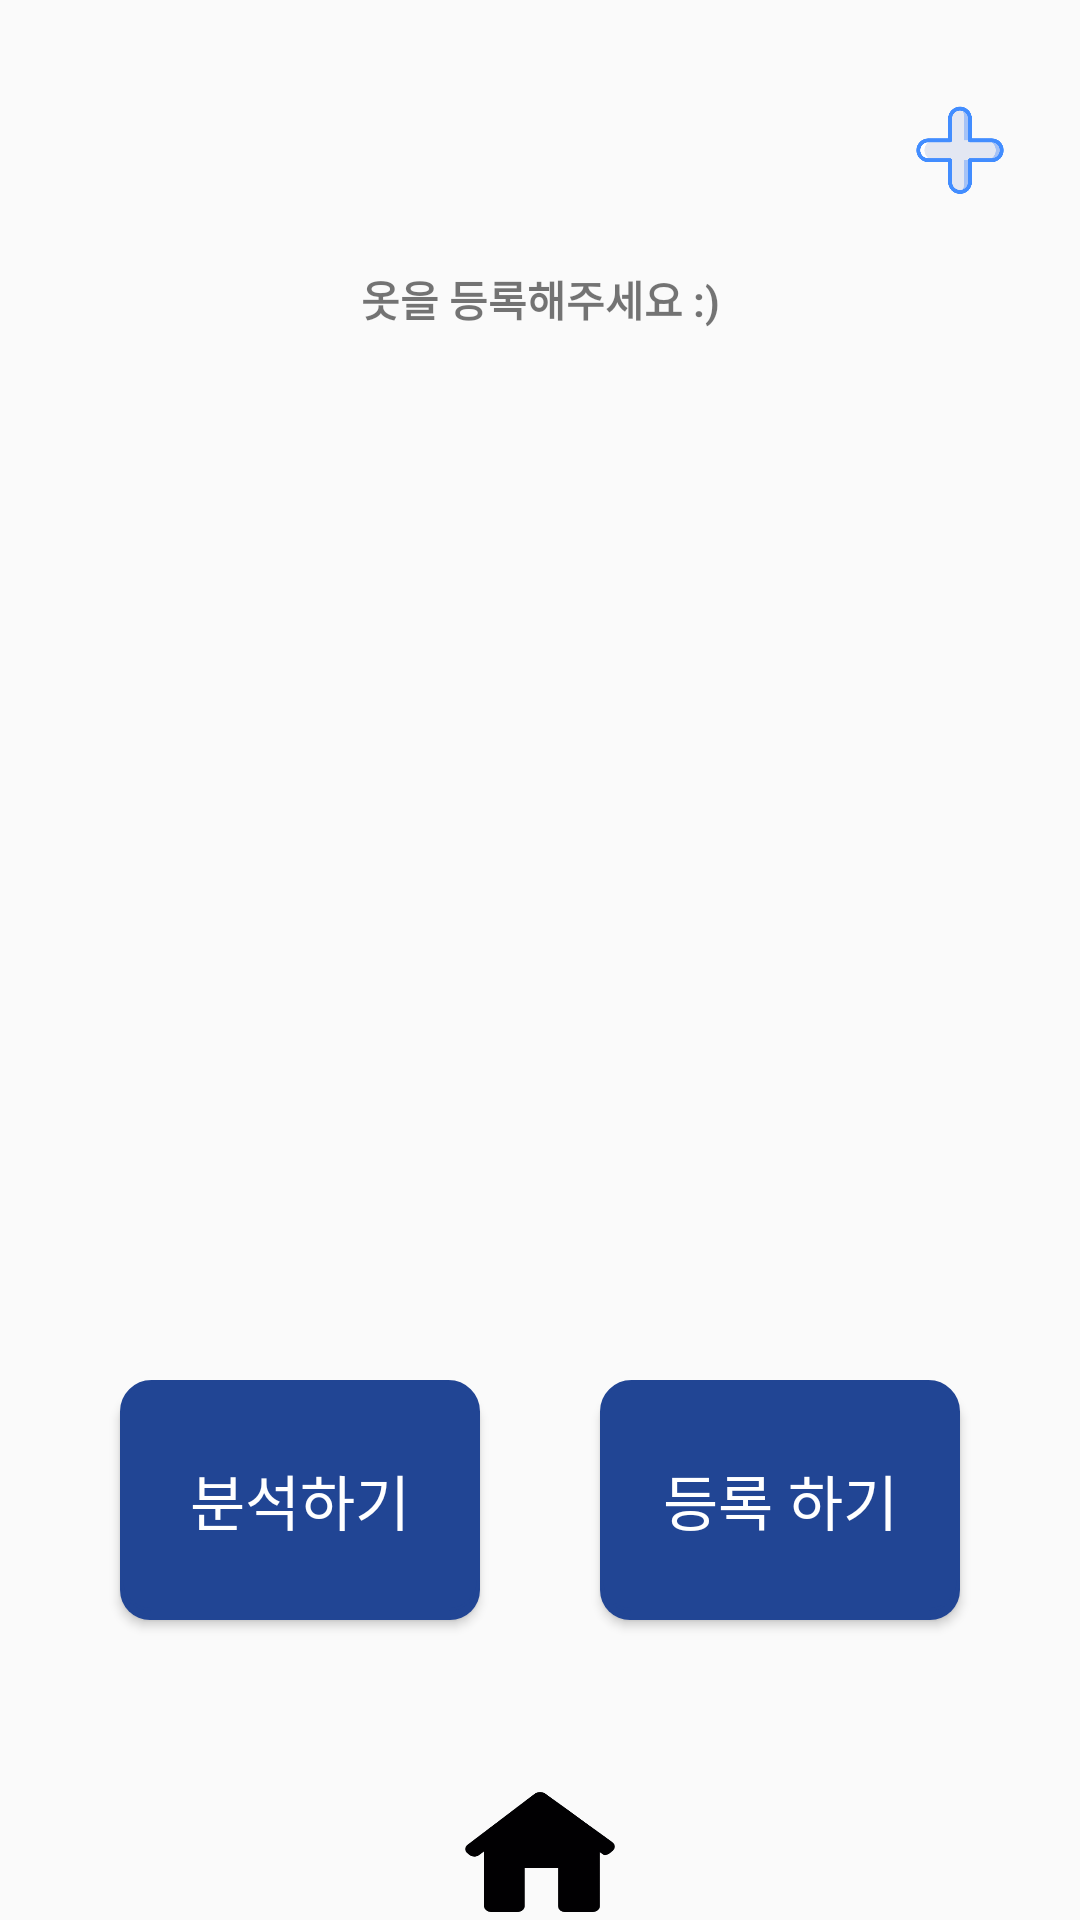

Screen size 1080*1920. Icon name, then its box in pixels as bbox(x1, y1, x2, y2):
add: bbox(916, 106, 1004, 194)
